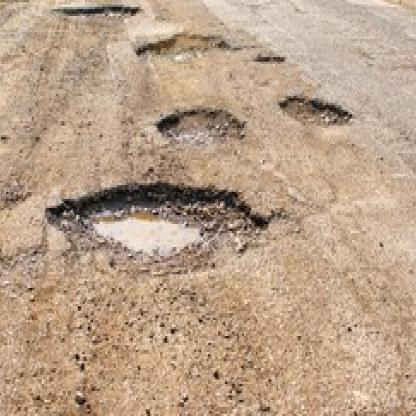pothole: (40, 179, 268, 275), (153, 108, 244, 147), (135, 30, 237, 62), (276, 94, 352, 130), (52, 2, 143, 21), (255, 53, 289, 64)
